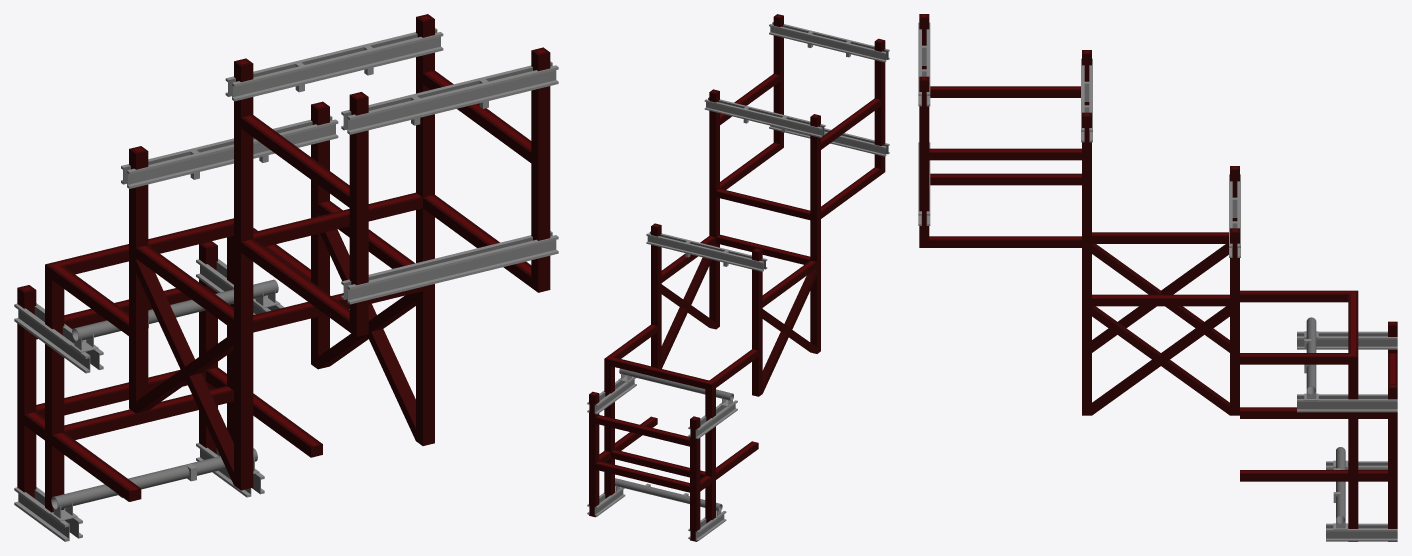
The model's file is rmc_support_quarter_loop.obj.
3 views of the same model, side by side, from view 1: azimuth 30°, elevation 25°; view 2: azimuth 150°, elevation 25°; view 3: azimuth 270°, elevation 25° (orthographic). The views are drawn at different scales.
Bounding box in the file's own units: 3.55 × 10.64 × 10.03.
